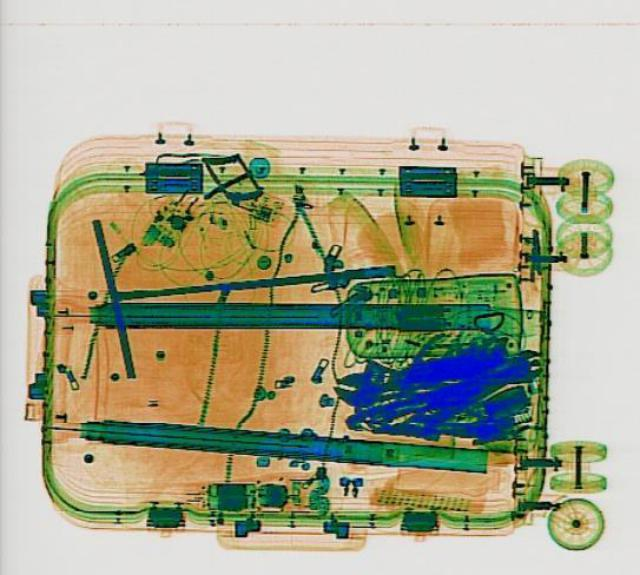Wrench: (394, 341, 550, 439)
